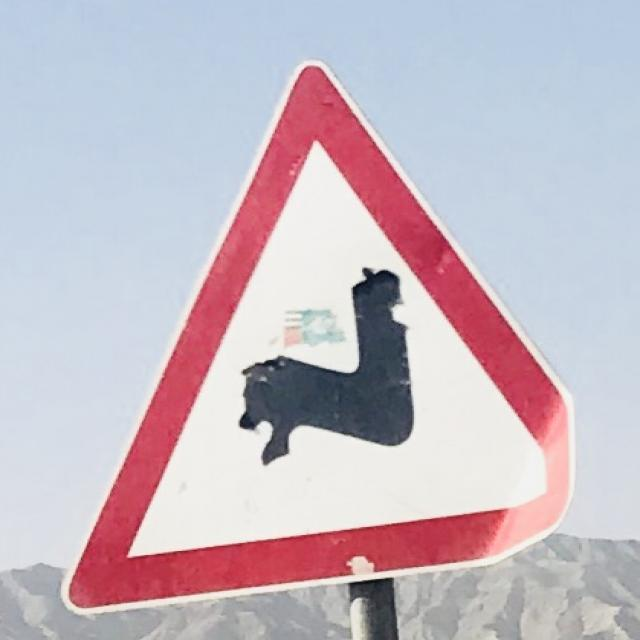right reverse bend: (72, 62, 574, 609)
